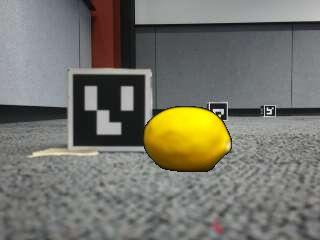lemon: (145, 107, 231, 171)
